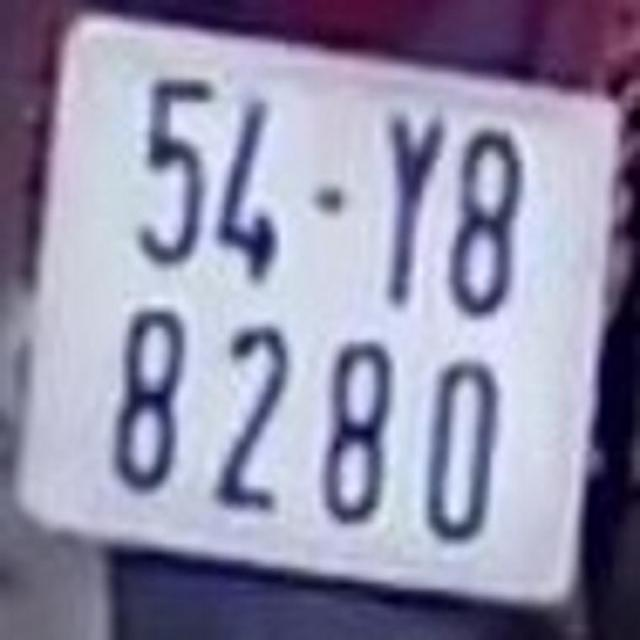0: (420, 351, 498, 544)
2: (216, 320, 284, 512)
4: (214, 90, 284, 276)
5: (135, 71, 209, 272)
8: (448, 122, 520, 321), (112, 304, 183, 493), (326, 327, 390, 532)
Y: (381, 98, 443, 316)
